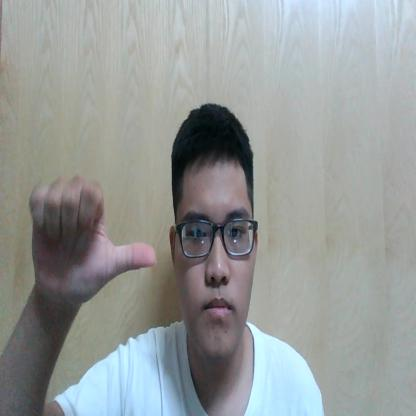left: (27, 176, 158, 316)
